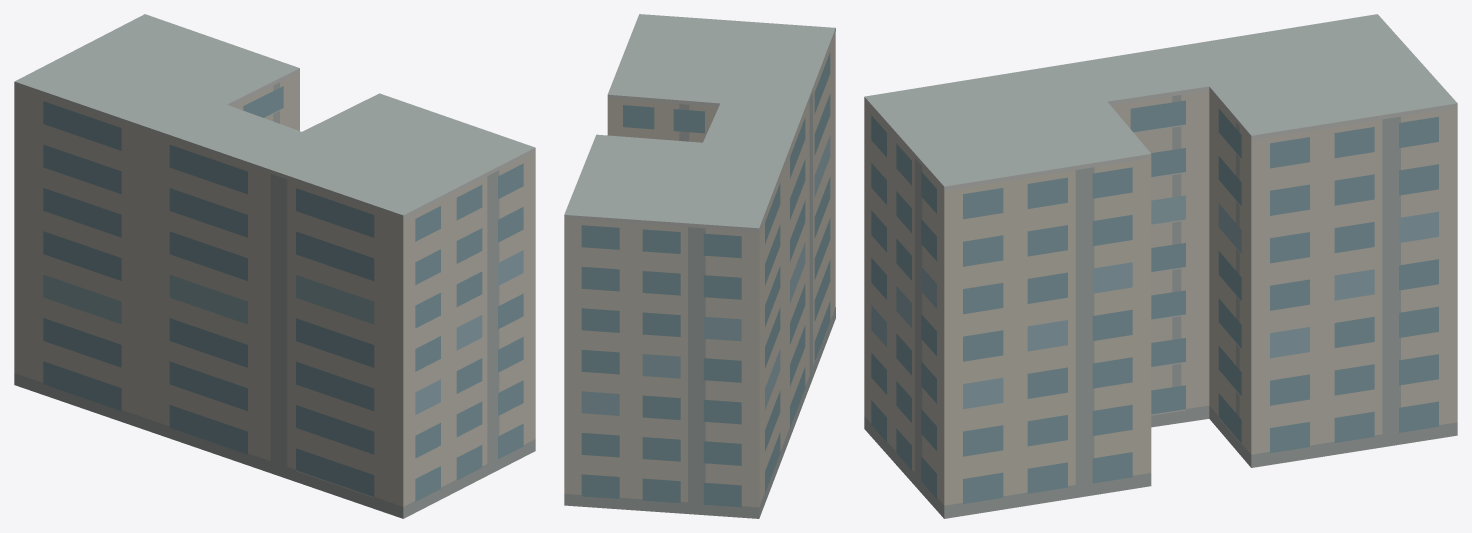
Rendered from survey-upis-32832763.glb.
3 renders of one model, left to right at view 1: azimuth 30°, elevation 25°; view 2: azimuth 150°, elevation 25°; view 3: azimuth 270°, elevation 25°, orthographic. The views are drawn at different scales.
Parts seen in each view (by area): view 1: survey-upis-32832763.tmp; view 2: survey-upis-32832763.tmp; view 3: survey-upis-32832763.tmp.
Boxes of the visible parts, box(x1,y1,x2,y2) form: survey-upis-32832763.tmp: box(14, 14, 535, 518); survey-upis-32832763.tmp: box(564, 14, 835, 518); survey-upis-32832763.tmp: box(864, 14, 1457, 518).
Bounding box in the file's own units: 20.96 × 18.8 × 30.44.
